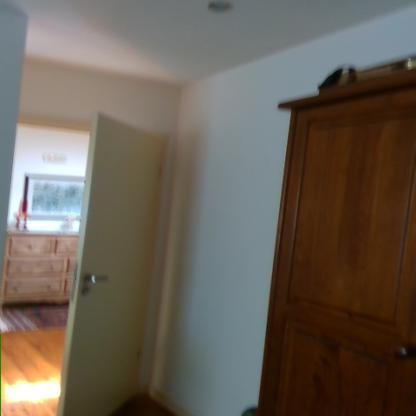semi: (2, 101, 177, 415)
